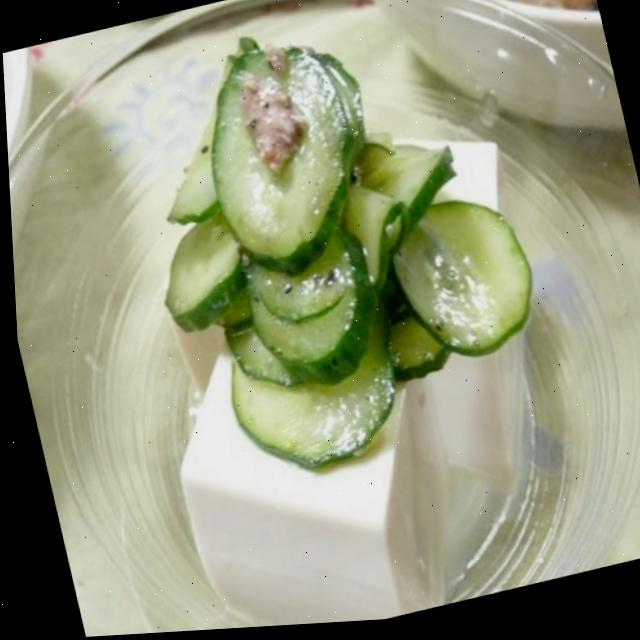豆腐料理: (80, 0, 594, 636)
